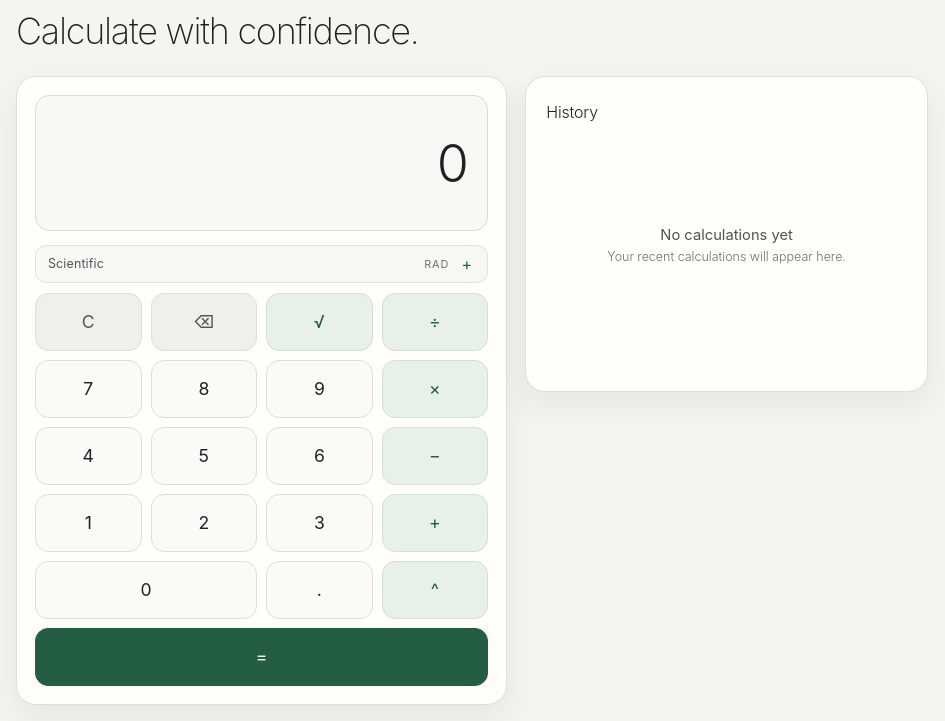
calculator › does not add failed division to history
Click the button "8": (204, 389) [150, 360, 257, 418]
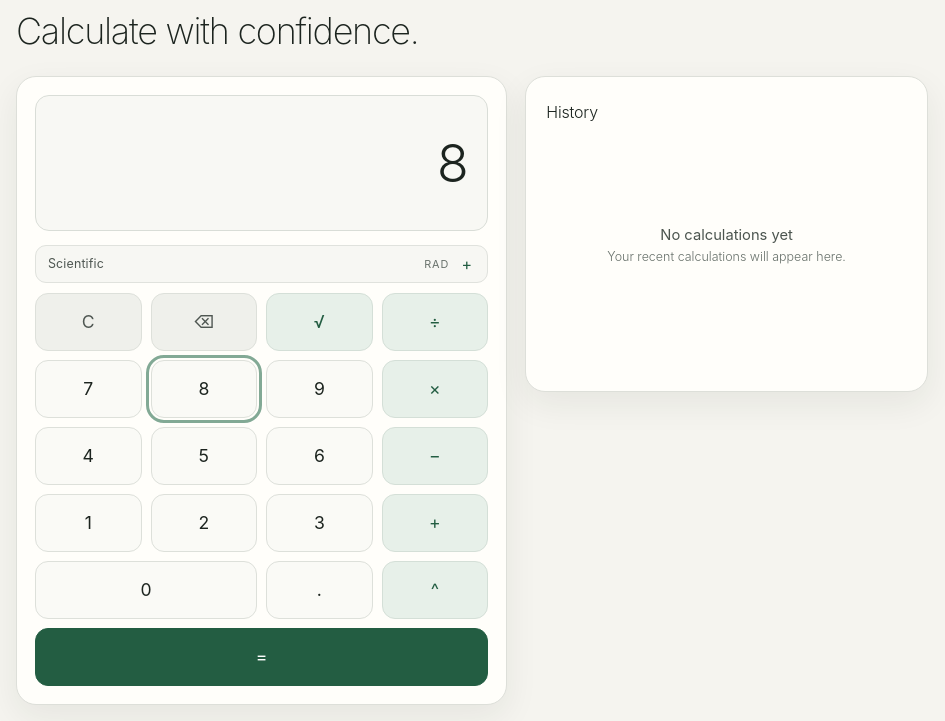
Click the button named "Divide": (435, 322) [382, 293, 488, 351]
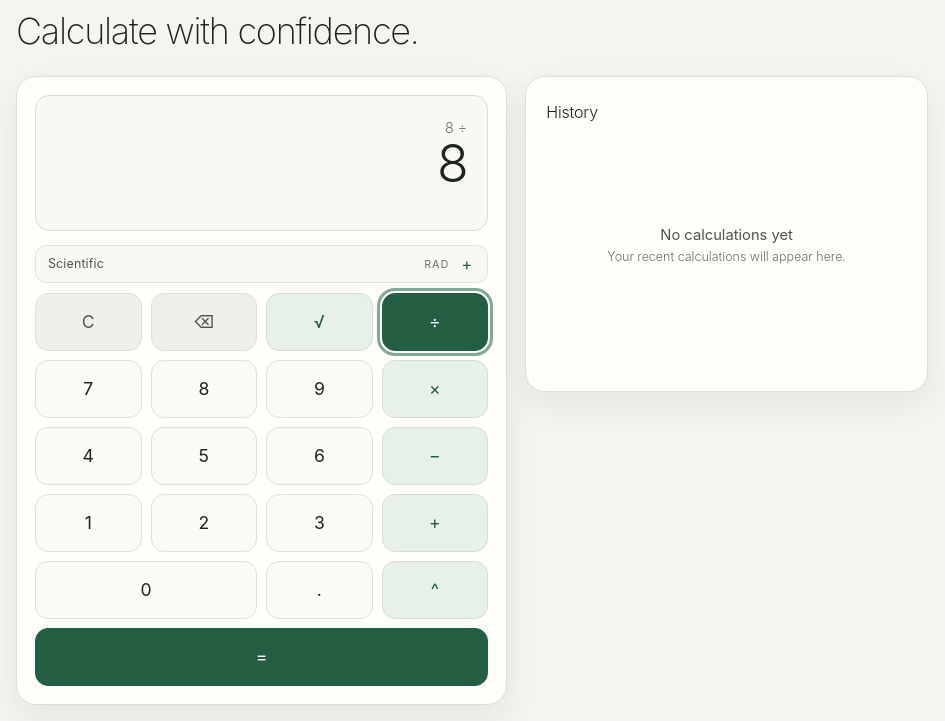
Click the button "0": (146, 590) [35, 561, 257, 619]
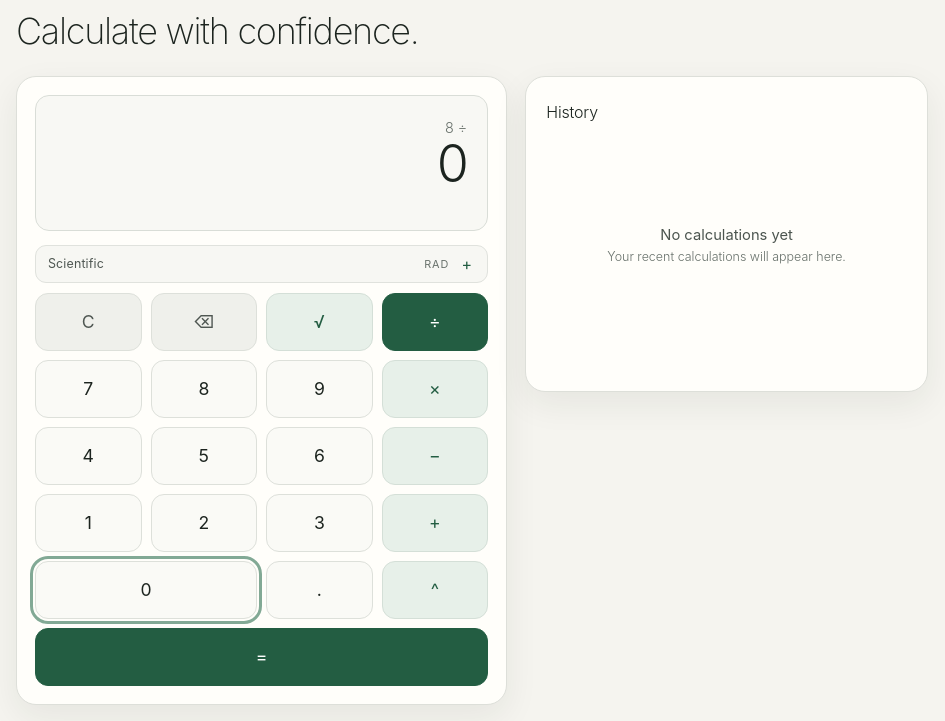
Click the button named "Calculate result": (262, 657) [35, 628, 488, 686]
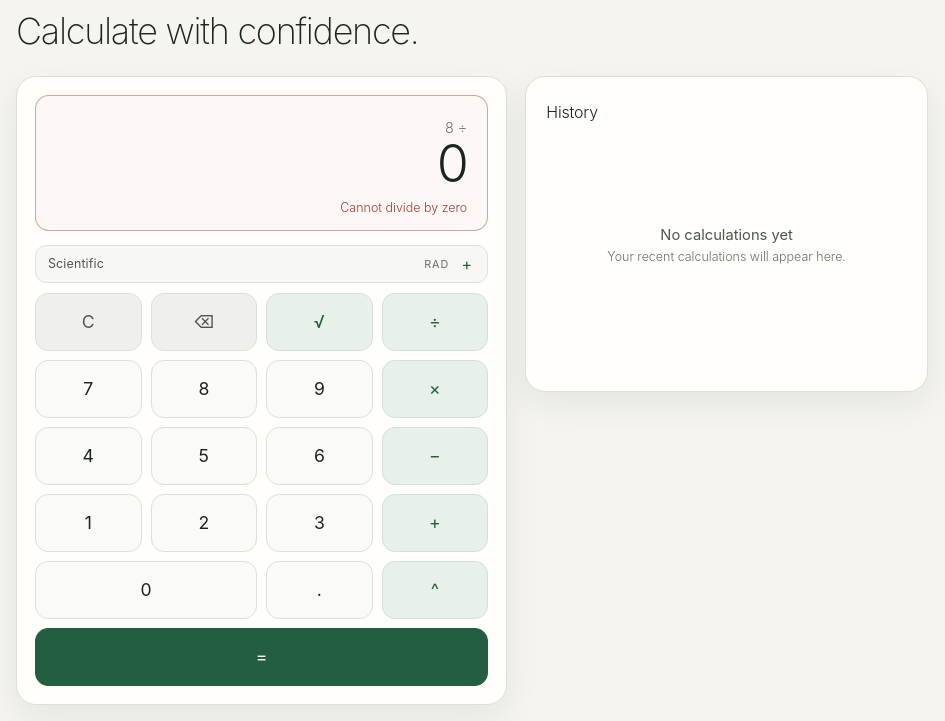
expect the text "No calculations yet" is shown: met, box [660, 226, 793, 244]
expect the message reads "Cannot divide by zero": met, box [340, 200, 467, 215]
